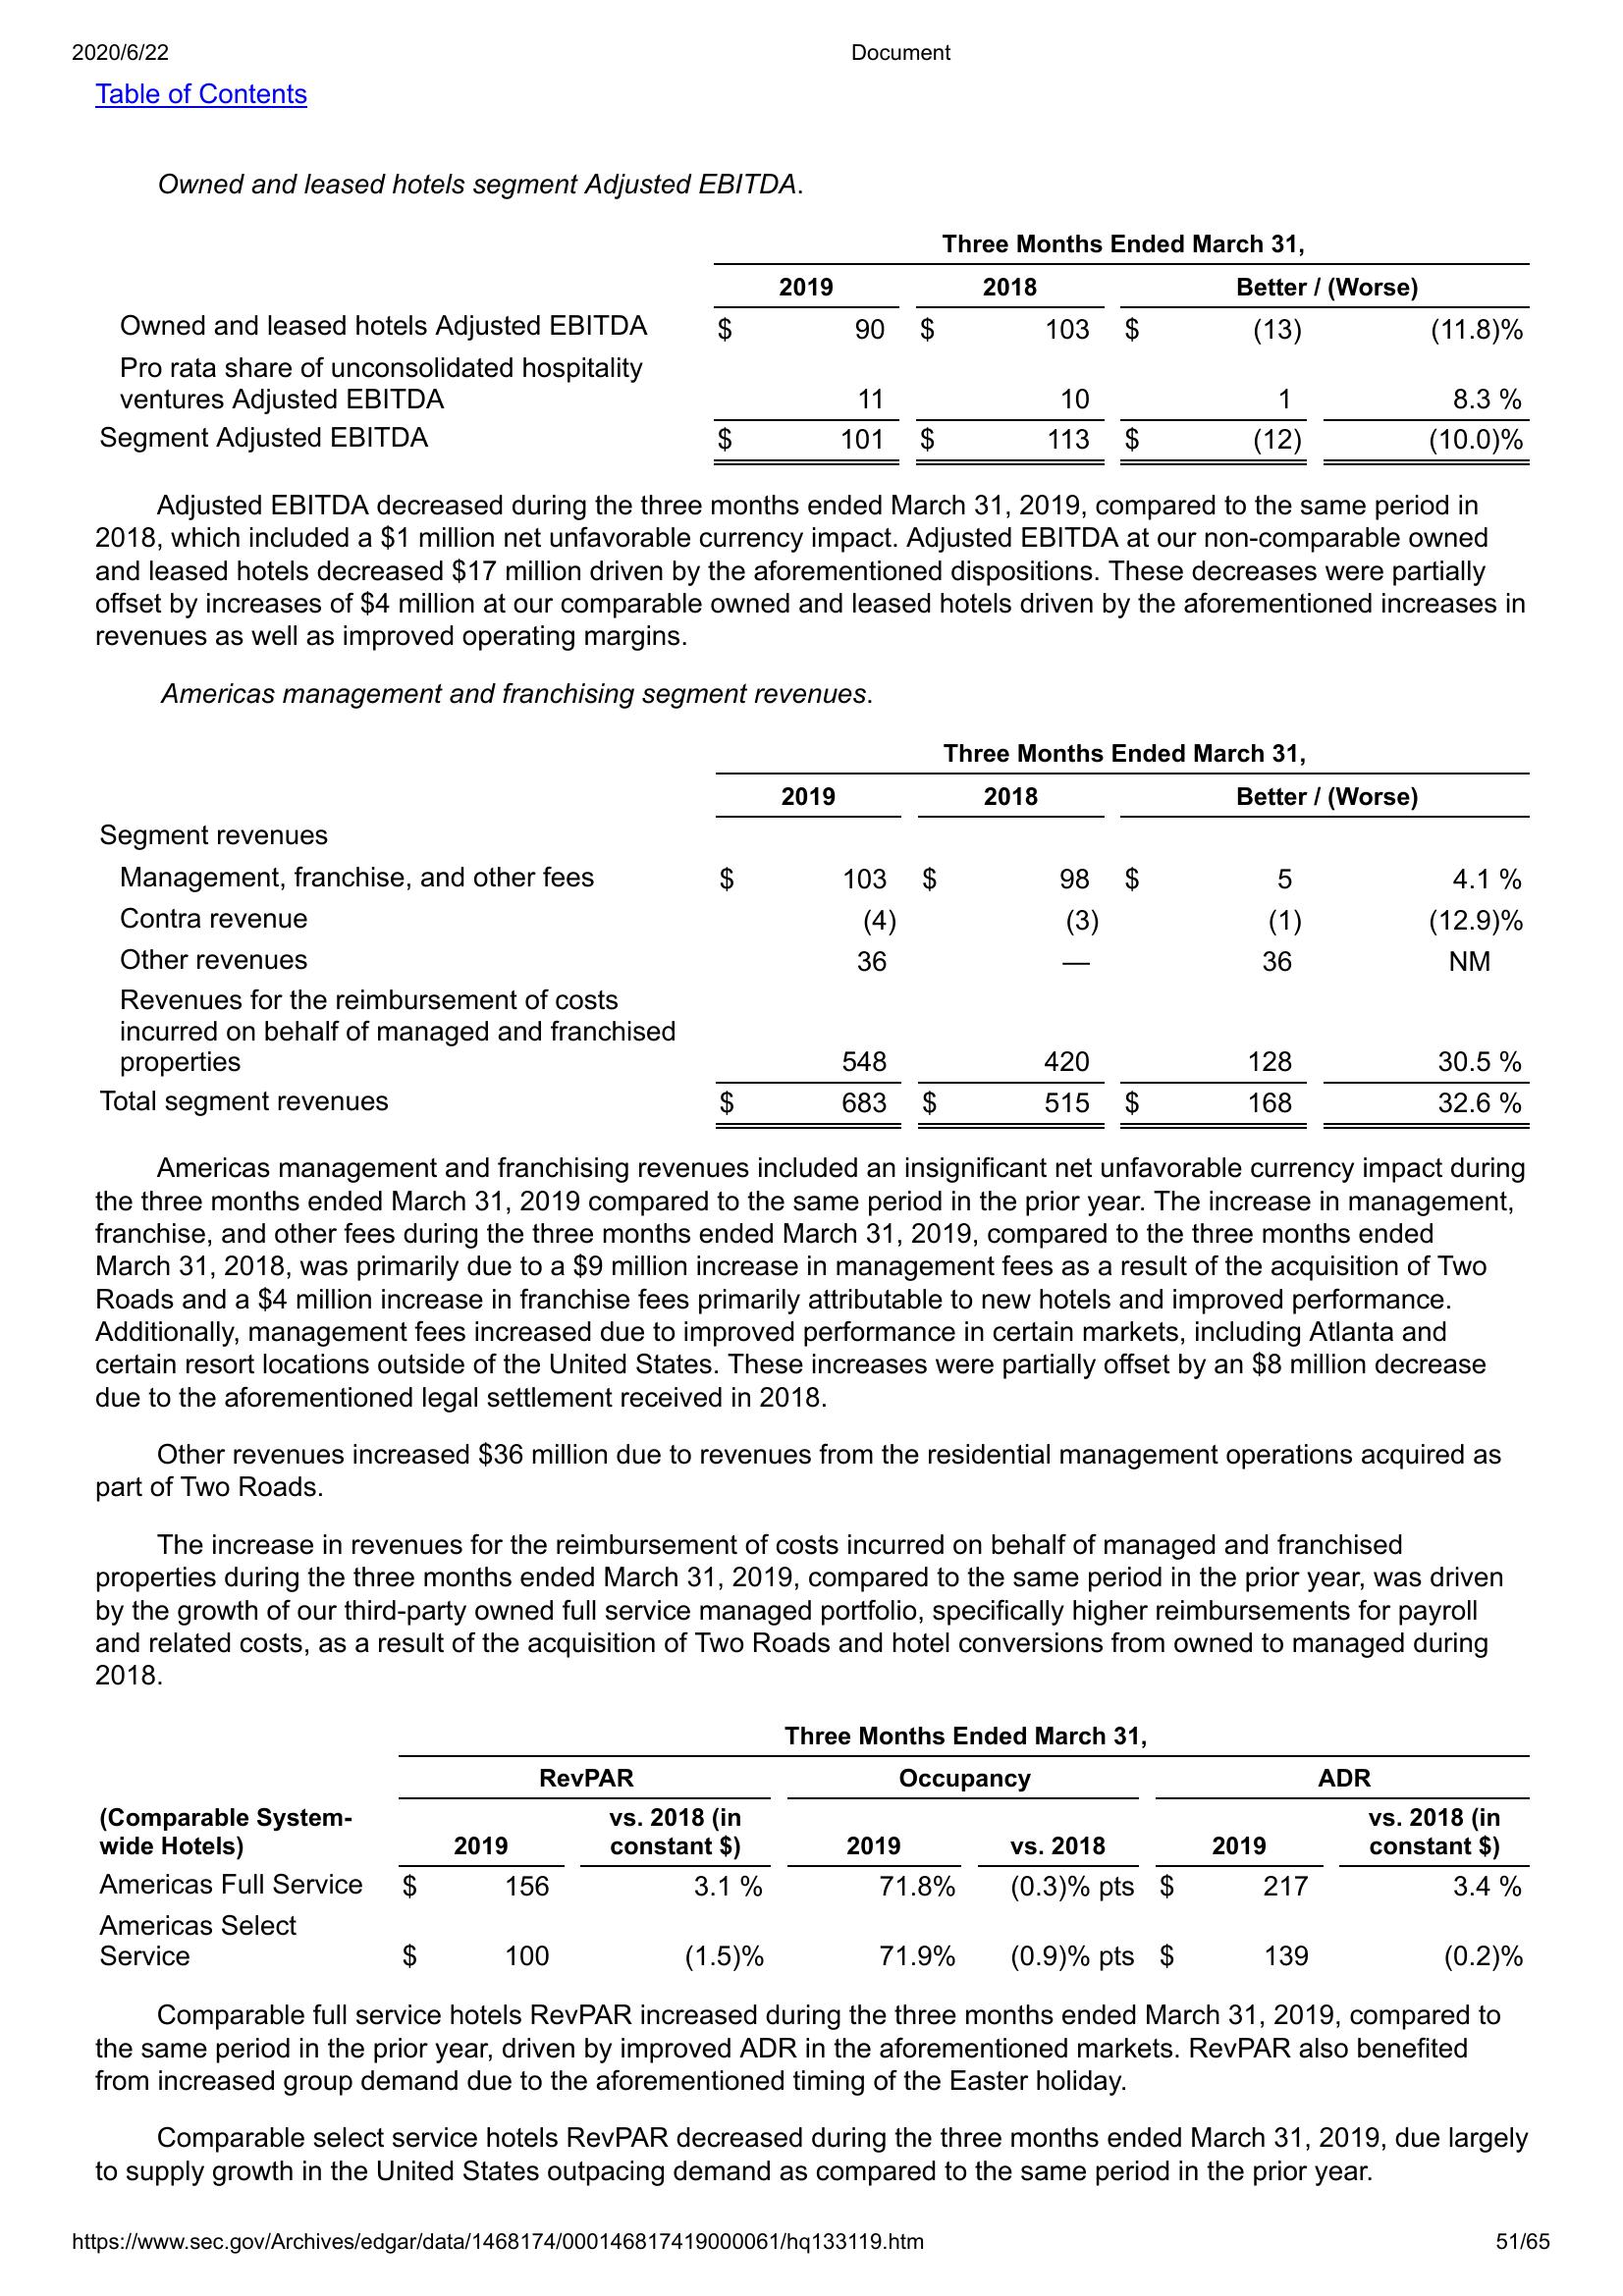table: (95, 735, 1539, 1136), (88, 1715, 1535, 1977), (91, 226, 1542, 470)
